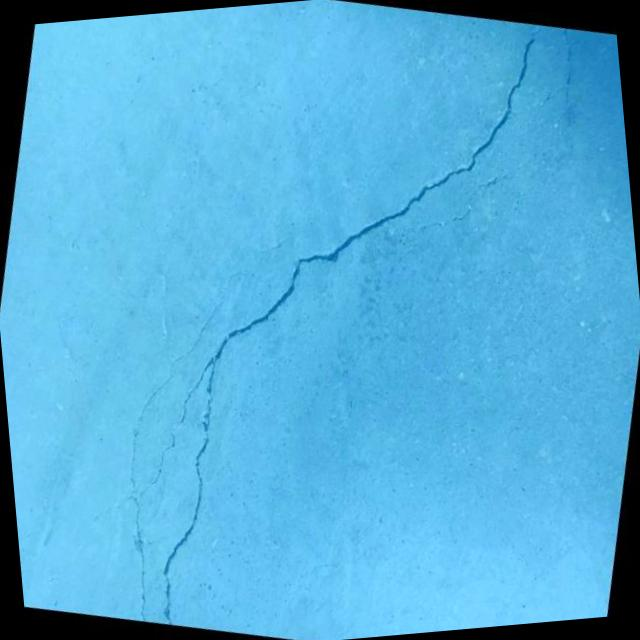crack: (29, 0, 590, 640), (510, 22, 589, 175), (414, 158, 507, 244)
